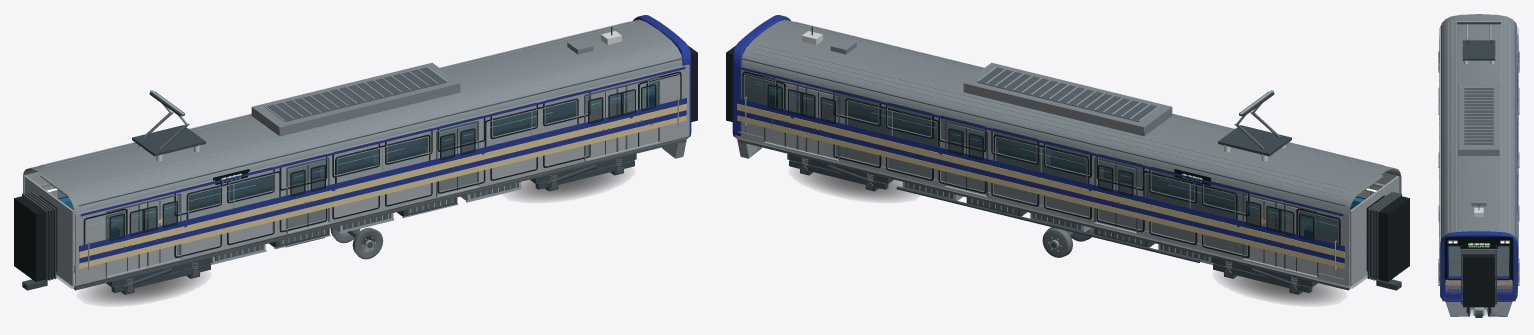
File: yokosuka.glb
3 views of the same model, side by side, from view 1: azimuth 30°, elevation 25°; view 2: azimuth 150°, elevation 25°; view 3: azimuth 270°, elevation 25° (orthographic). The views are drawn at different scales.
Parts seen in each view (by area): view 1: body__ROOF, body__STAINLESS, body__STAINLESS.002, body__STAINLESS.001, body__GLASS.001, body__GLASS, body__TRIM, body__LIVERY_0, body__RUBBER.002, body__RUBBER.001, body__LIVERY_1.002, body__ALUMINIUM.001 (+23 smaller); view 2: body__ROOF, body__GLASS.001, body__STAINLESS.001, body__GLASS, body__GLASS.002, body__STAINLESS.002, body__TRIM, body__STAINLESS, body__LIVERY_0, body__RUBBER.001, body__RUBBER.002, body__LIVERY_1.002 (+23 smaller); view 3: body__ROOF, body__RUBBER.002, body__TRIM, cab-shell__LIVERY_0, body__ALUMINIUM.003, body__STAINLESS.002, body__ALUMINIUM.001, body__RUBBER.001, body__CAB_GLASS, roof-housing__ROOF.002, body__CAB_MASK, body__MACHINERY.002 (+16 smaller).
Part boxes in pixels (x1=…): body__ROOF: x1=30, y1=19, x2=682, y2=214; body__STAINLESS: x1=23, y1=64, x2=688, y2=288; body__STAINLESS.002: x1=23, y1=64, x2=689, y2=288; body__STAINLESS.001: x1=23, y1=65, x2=687, y2=288; body__GLASS.001: x1=57, y1=81, x2=658, y2=238; body__GLASS: x1=57, y1=81, x2=657, y2=238; body__TRIM: x1=25, y1=58, x2=682, y2=292; body__LIVERY_0: x1=79, y1=67, x2=686, y2=263; body__RUBBER.002: x1=14, y1=45, x2=697, y2=281; body__RUBBER.001: x1=14, y1=53, x2=697, y2=281; body__LIVERY_1.002: x1=79, y1=103, x2=686, y2=258; body__ALUMINIUM.001: x1=43, y1=21, x2=680, y2=269; body__ROOF: x1=741, y1=19, x2=1393, y2=214; body__GLASS.001: x1=744, y1=76, x2=1366, y2=243; body__STAINLESS.001: x1=735, y1=67, x2=1401, y2=288; body__GLASS: x1=745, y1=76, x2=1366, y2=243; body__GLASS.002: x1=768, y1=85, x2=1312, y2=255; body__STAINLESS.002: x1=736, y1=66, x2=1390, y2=277; body__TRIM: x1=741, y1=58, x2=1398, y2=292; body__STAINLESS: x1=735, y1=66, x2=1400, y2=288; body__LIVERY_0: x1=737, y1=67, x2=1344, y2=263; body__RUBBER.001: x1=726, y1=53, x2=1409, y2=281; body__RUBBER.002: x1=726, y1=45, x2=1409, y2=281; body__LIVERY_1.002: x1=737, y1=103, x2=1344, y2=258; body__ROOF: x1=1441, y1=14, x2=1517, y2=240; body__RUBBER.002: x1=1439, y1=62, x2=1518, y2=307; body__TRIM: x1=1442, y1=88, x2=1515, y2=310; cab-shell__LIVERY_0: x1=1440, y1=231, x2=1517, y2=301; body__ALUMINIUM.003: x1=1438, y1=51, x2=1519, y2=292; body__STAINLESS.002: x1=1440, y1=26, x2=1515, y2=300; body__ALUMINIUM.001: x1=1438, y1=20, x2=1519, y2=282; body__RUBBER.001: x1=1463, y1=248, x2=1517, y2=306; body__CAB_GLASS: x1=1448, y1=246, x2=1509, y2=278; roof-housing__ROOF.002: x1=1458, y1=85, x2=1499, y2=155; body__CAB_MASK: x1=1444, y1=236, x2=1513, y2=284; body__MACHINERY.002: x1=1457, y1=22, x2=1500, y2=60.
Bounding box in the file's own units: 21.25 × 5.93 × 3.1.
23 materials, 7 textured.
